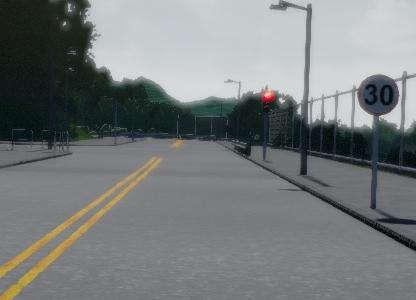Speed_30: (355, 72, 401, 116)
